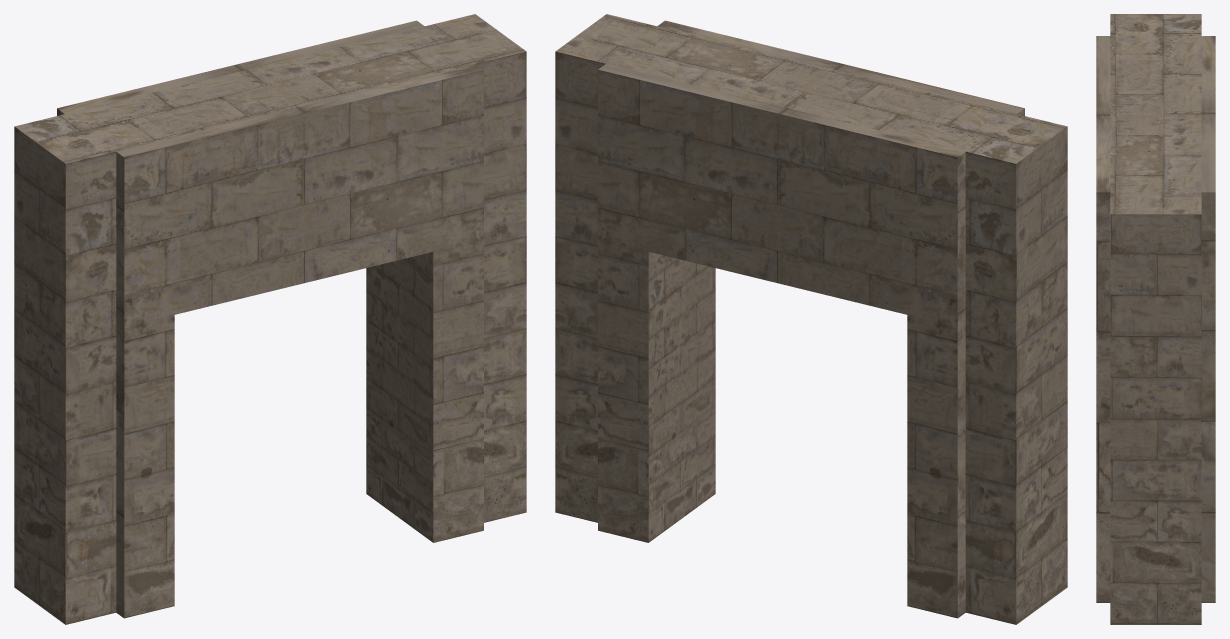
Rendered from door frame.glb.
3 renders of one model, left to right at view 1: azimuth 30°, elevation 25°; view 2: azimuth 150°, elevation 25°; view 3: azimuth 270°, elevation 25°, orthographic. The views are drawn at different scales.
Parts seen in each view (by area): view 1: frame; view 2: frame; view 3: frame.
Boxes of the visible parts, bbox=[...] form: frame: bbox=[14, 14, 526, 624]; frame: bbox=[555, 14, 1067, 624]; frame: bbox=[1096, 14, 1215, 624].
Bounding box in the file's own units: 5.18 × 4.95 × 1.31.
1 material, 1 textured.
